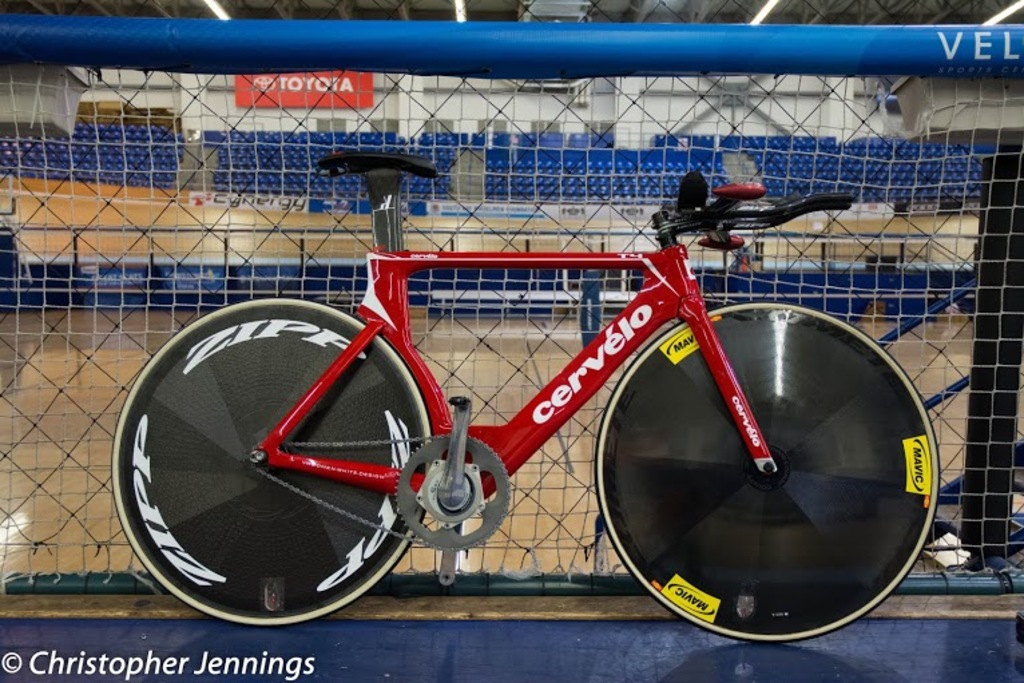Bike: (170, 170, 916, 611)
